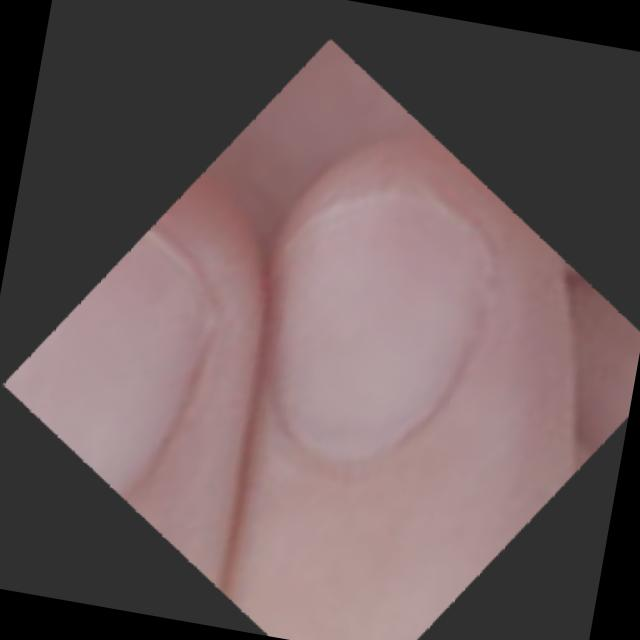Nail: (272, 195, 497, 457)
